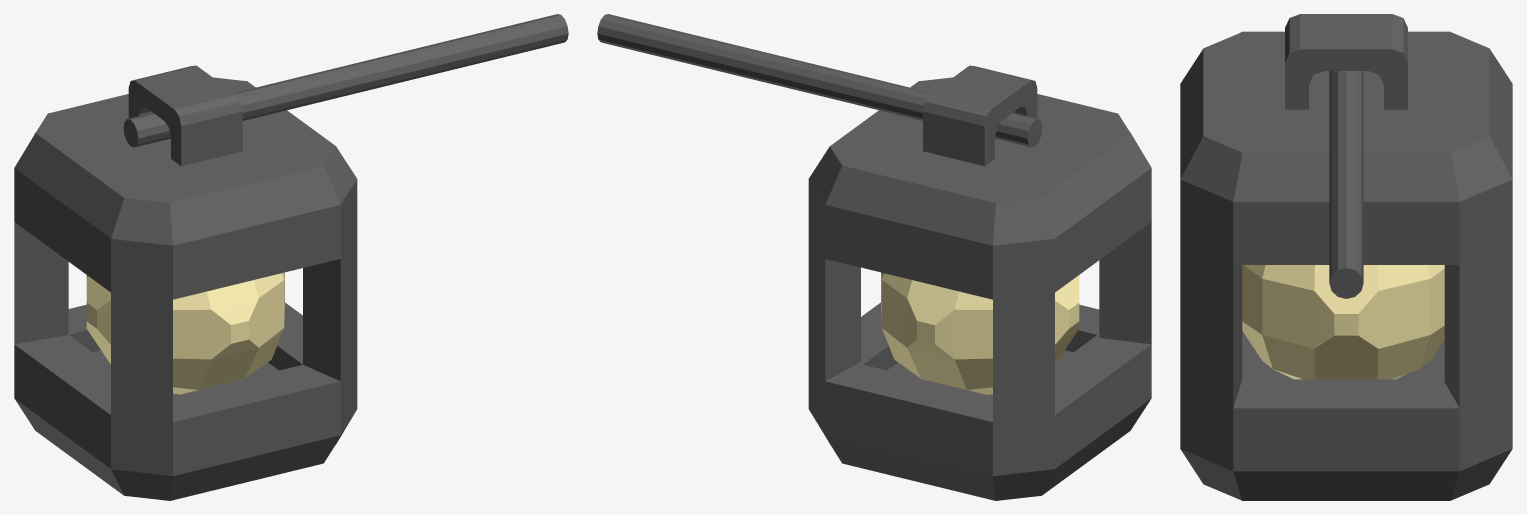
Rendered from Light.glb.
3 renders of one model, left to right at view 1: azimuth 30°, elevation 25°; view 2: azimuth 150°, elevation 25°; view 3: azimuth 270°, elevation 25°, orthographic. The views are drawn at different scales.
Parts seen in each view (by area): view 1: Cube, Cube.001, Sphere, Cube.007, Cube.002, Cube.004, Cube.005, Cube.003; view 2: Cube, Cube.001, Sphere, Cube.007, Cube.002, Cube.003, Cube.006, Cube.004; view 3: Cube, Cube.001, Sphere, Cube.006, Cube.005, Cube.002, Cube.007.
Boxes of the visible parts, left/top/right/bottom form: Cube: left=14, top=77, right=357, bottom=299; Cube.001: left=14, top=302, right=357, bottom=500; Sphere: left=86, top=272, right=284, bottom=394; Cube.007: left=123, top=14, right=568, bottom=147; Cube.002: left=128, top=65, right=242, bottom=166; Cube.004: left=111, top=292, right=172, bottom=422; Cube.005: left=303, top=233, right=357, bottom=380; Cube.003: left=14, top=222, right=68, bottom=344; Cube: left=808, top=77, right=1151, bottom=299; Cube.001: left=808, top=302, right=1151, bottom=500; Sphere: left=881, top=272, right=1079, bottom=394; Cube.007: left=597, top=14, right=1042, bottom=147; Cube.002: left=923, top=65, right=1037, bottom=166; Cube.003: left=993, top=292, right=1054, bottom=422; Cube.006: left=808, top=233, right=860, bottom=380; Cube.004: left=1099, top=222, right=1151, bottom=344; Cube: left=1180, top=31, right=1512, bottom=264; Cube.001: left=1180, top=331, right=1512, bottom=500; Sphere: left=1242, top=265, right=1444, bottom=379; Cube.006: left=1444, top=242, right=1512, bottom=407; Cube.005: left=1180, top=242, right=1242, bottom=407; Cube.002: left=1285, top=14, right=1407, bottom=109; Cube.007: left=1329, top=71, right=1363, bottom=298.
Bounding box in the file's own units: 4.05 × 2.72 × 2.
